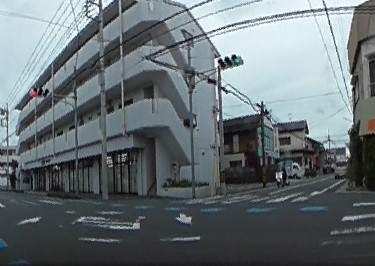person: (275, 161, 286, 186)
